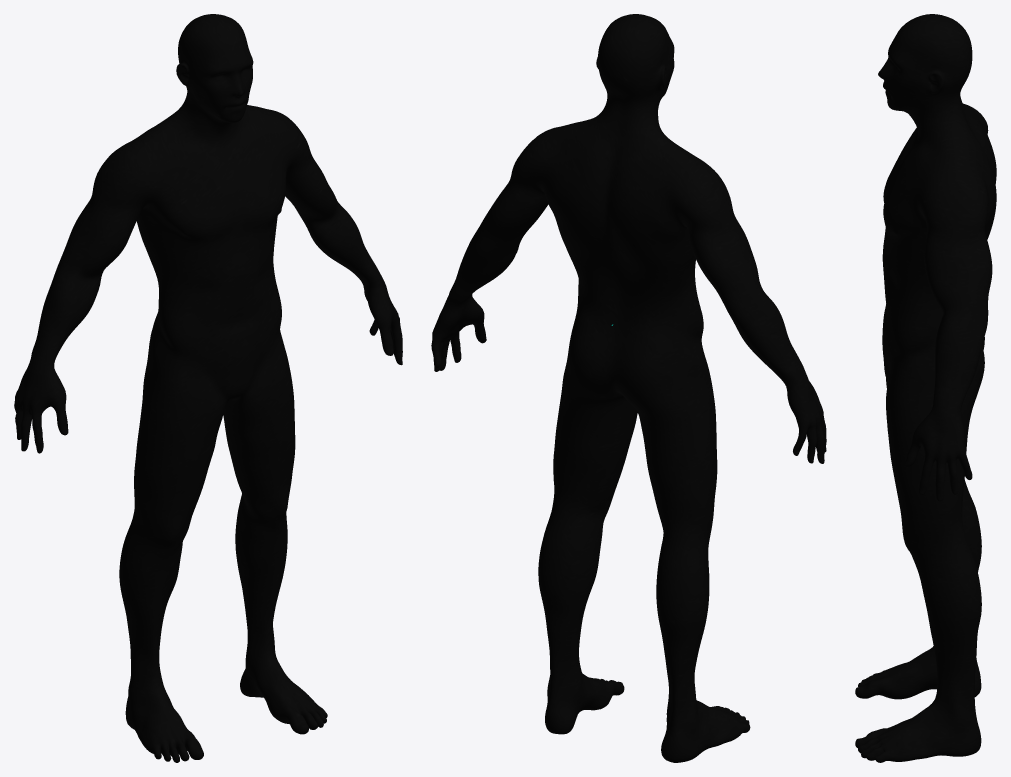
File: FullHuman_01.glb
3 views of the same model, side by side, from view 1: azimuth 30°, elevation 25°; view 2: azimuth 150°, elevation 25°; view 3: azimuth 270°, elevation 25° (orthographic).
Parts seen in each view (by area): view 1: FinalBaseMesh; view 2: FinalBaseMesh; view 3: FinalBaseMesh.
Part boxes in pixels (x1=…): FinalBaseMesh: x1=14, y1=14, x2=402, y2=762; FinalBaseMesh: x1=431, y1=14, x2=826, y2=762; FinalBaseMesh: x1=855, y1=14, x2=996, y2=762.
Bounding box in the file's own units: 1.28 × 2.27 × 0.4112.
3 materials, 1 textured.
